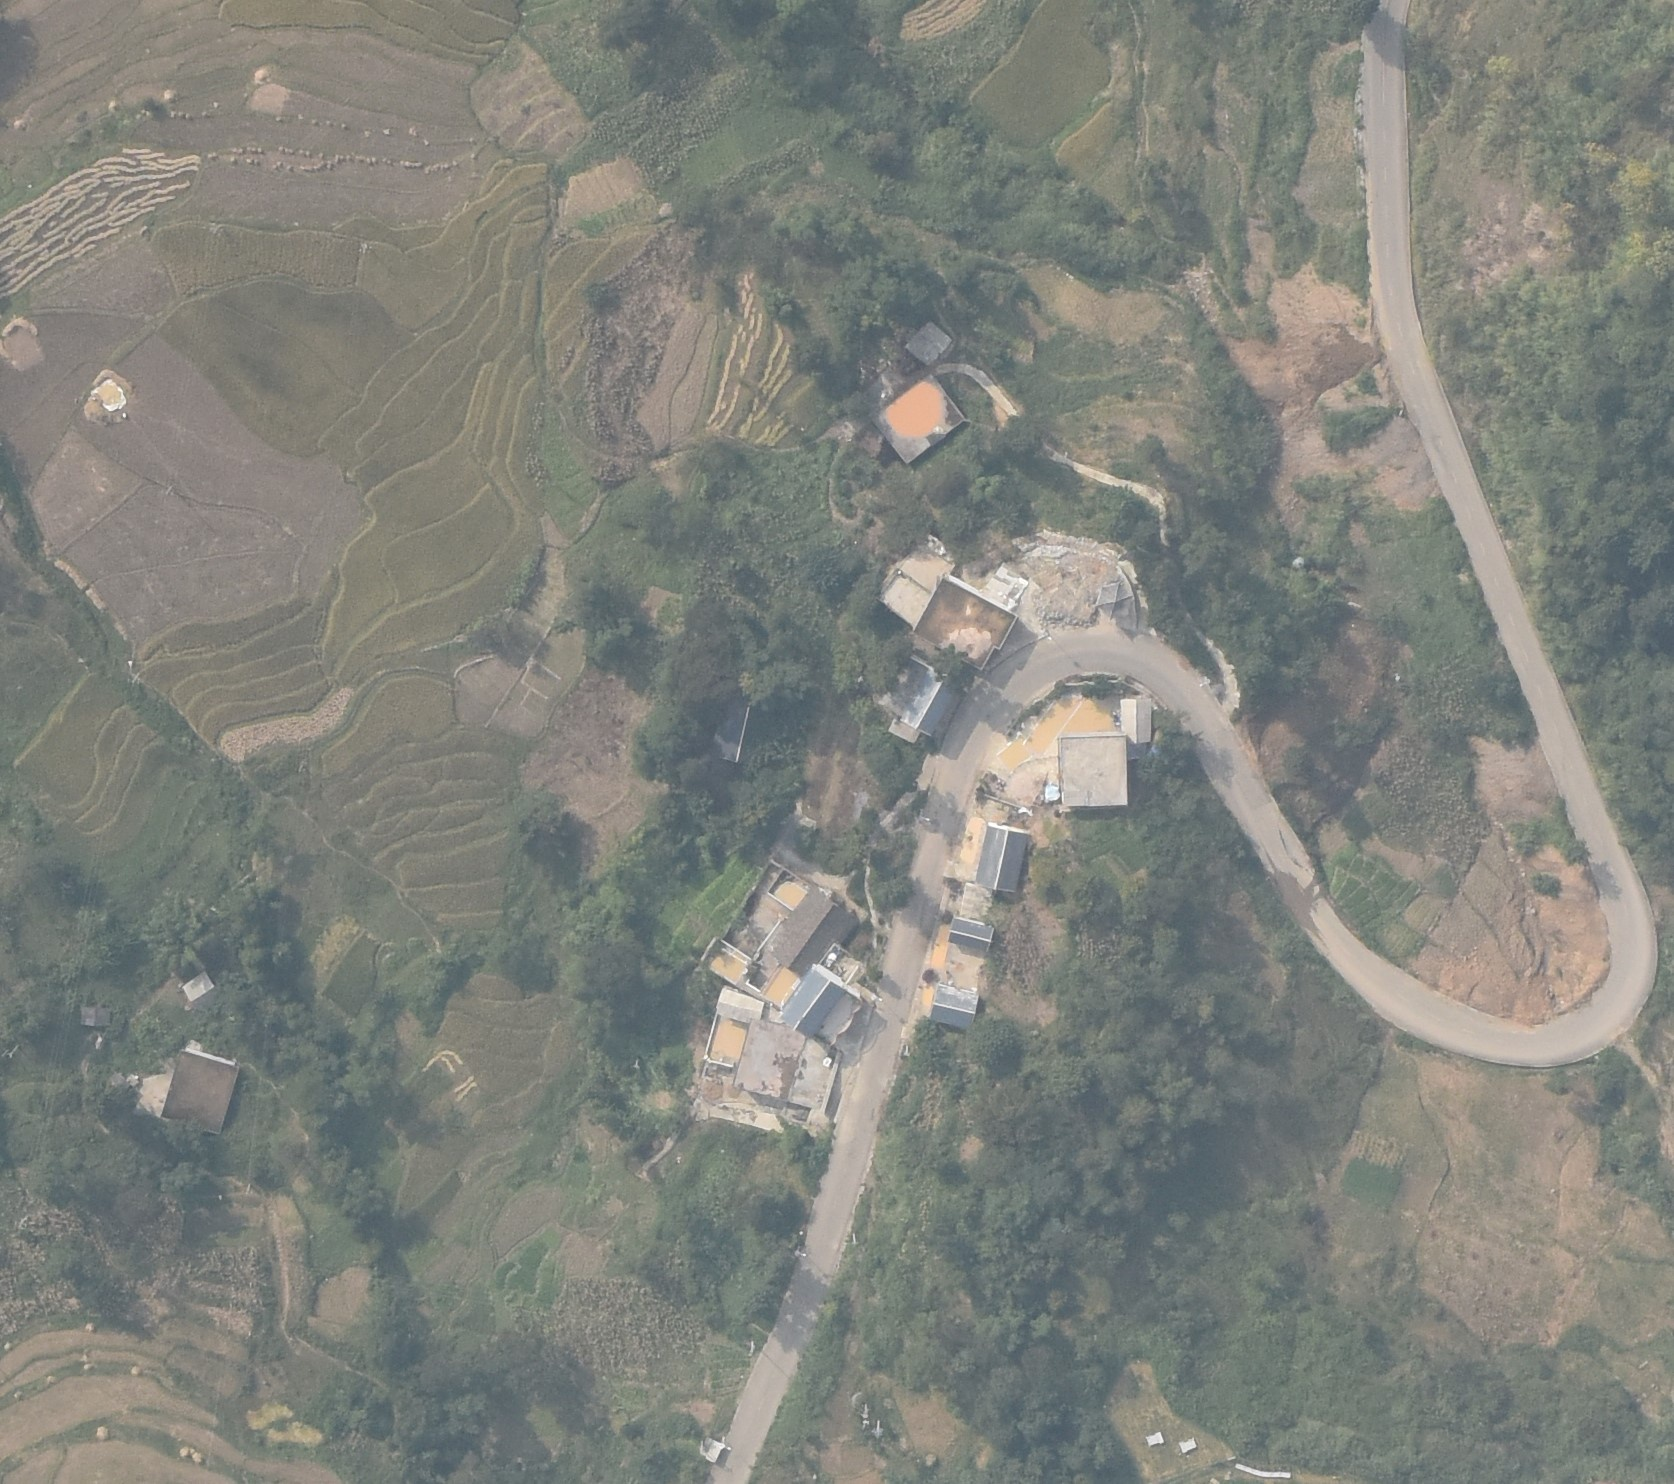building: (914, 577, 1017, 672), (735, 1020, 835, 1104), (874, 375, 965, 463), (158, 1049, 239, 1134), (775, 890, 846, 971), (1057, 733, 1127, 806), (895, 659, 952, 738), (782, 964, 843, 1031), (972, 824, 1024, 894), (929, 984, 979, 1027), (904, 322, 951, 362), (948, 920, 994, 950), (77, 1008, 110, 1028), (891, 721, 918, 741), (861, 1401, 871, 1432), (874, 1420, 885, 1447)
cable-tower: (200, 218, 228, 235), (355, 238, 375, 258), (238, 1183, 256, 1199), (848, 1232, 862, 1248), (899, 1043, 914, 1059), (748, 1338, 758, 1357)
prefabricated-house: (713, 988, 762, 1023), (1123, 700, 1151, 745)
